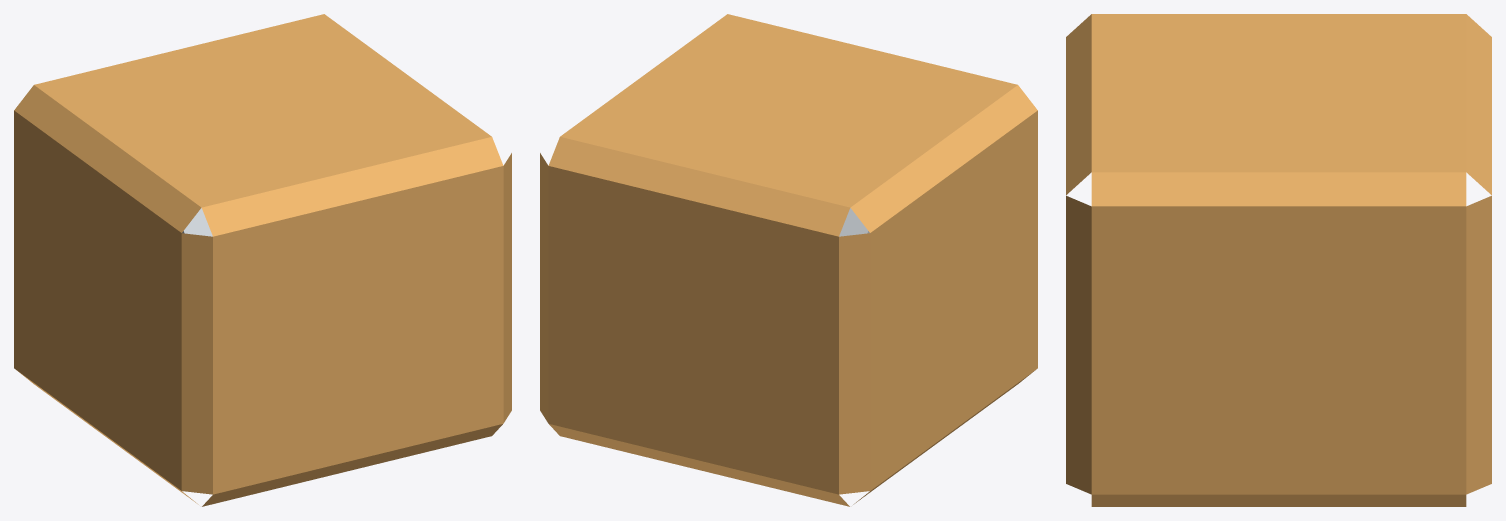
Rendered from hoist_winch.glb.
3 renders of one model, left to right at view 1: azimuth 30°, elevation 25°; view 2: azimuth 150°, elevation 25°; view 3: azimuth 270°, elevation 25°, orthographic. The views are drawn at different scales.
Visible parts, largest first — view 1: HousingAccent; view 2: HousingAccent; view 3: HousingAccent.
Part boxes in pixels (x1=…): HousingAccent: x1=14, y1=14, x2=511, y2=506; HousingAccent: x1=540, y1=14, x2=1037, y2=506; HousingAccent: x1=1066, y1=14, x2=1491, y2=506.
Size of the model in its own units: 0.3 by 0.26 by 0.3.
